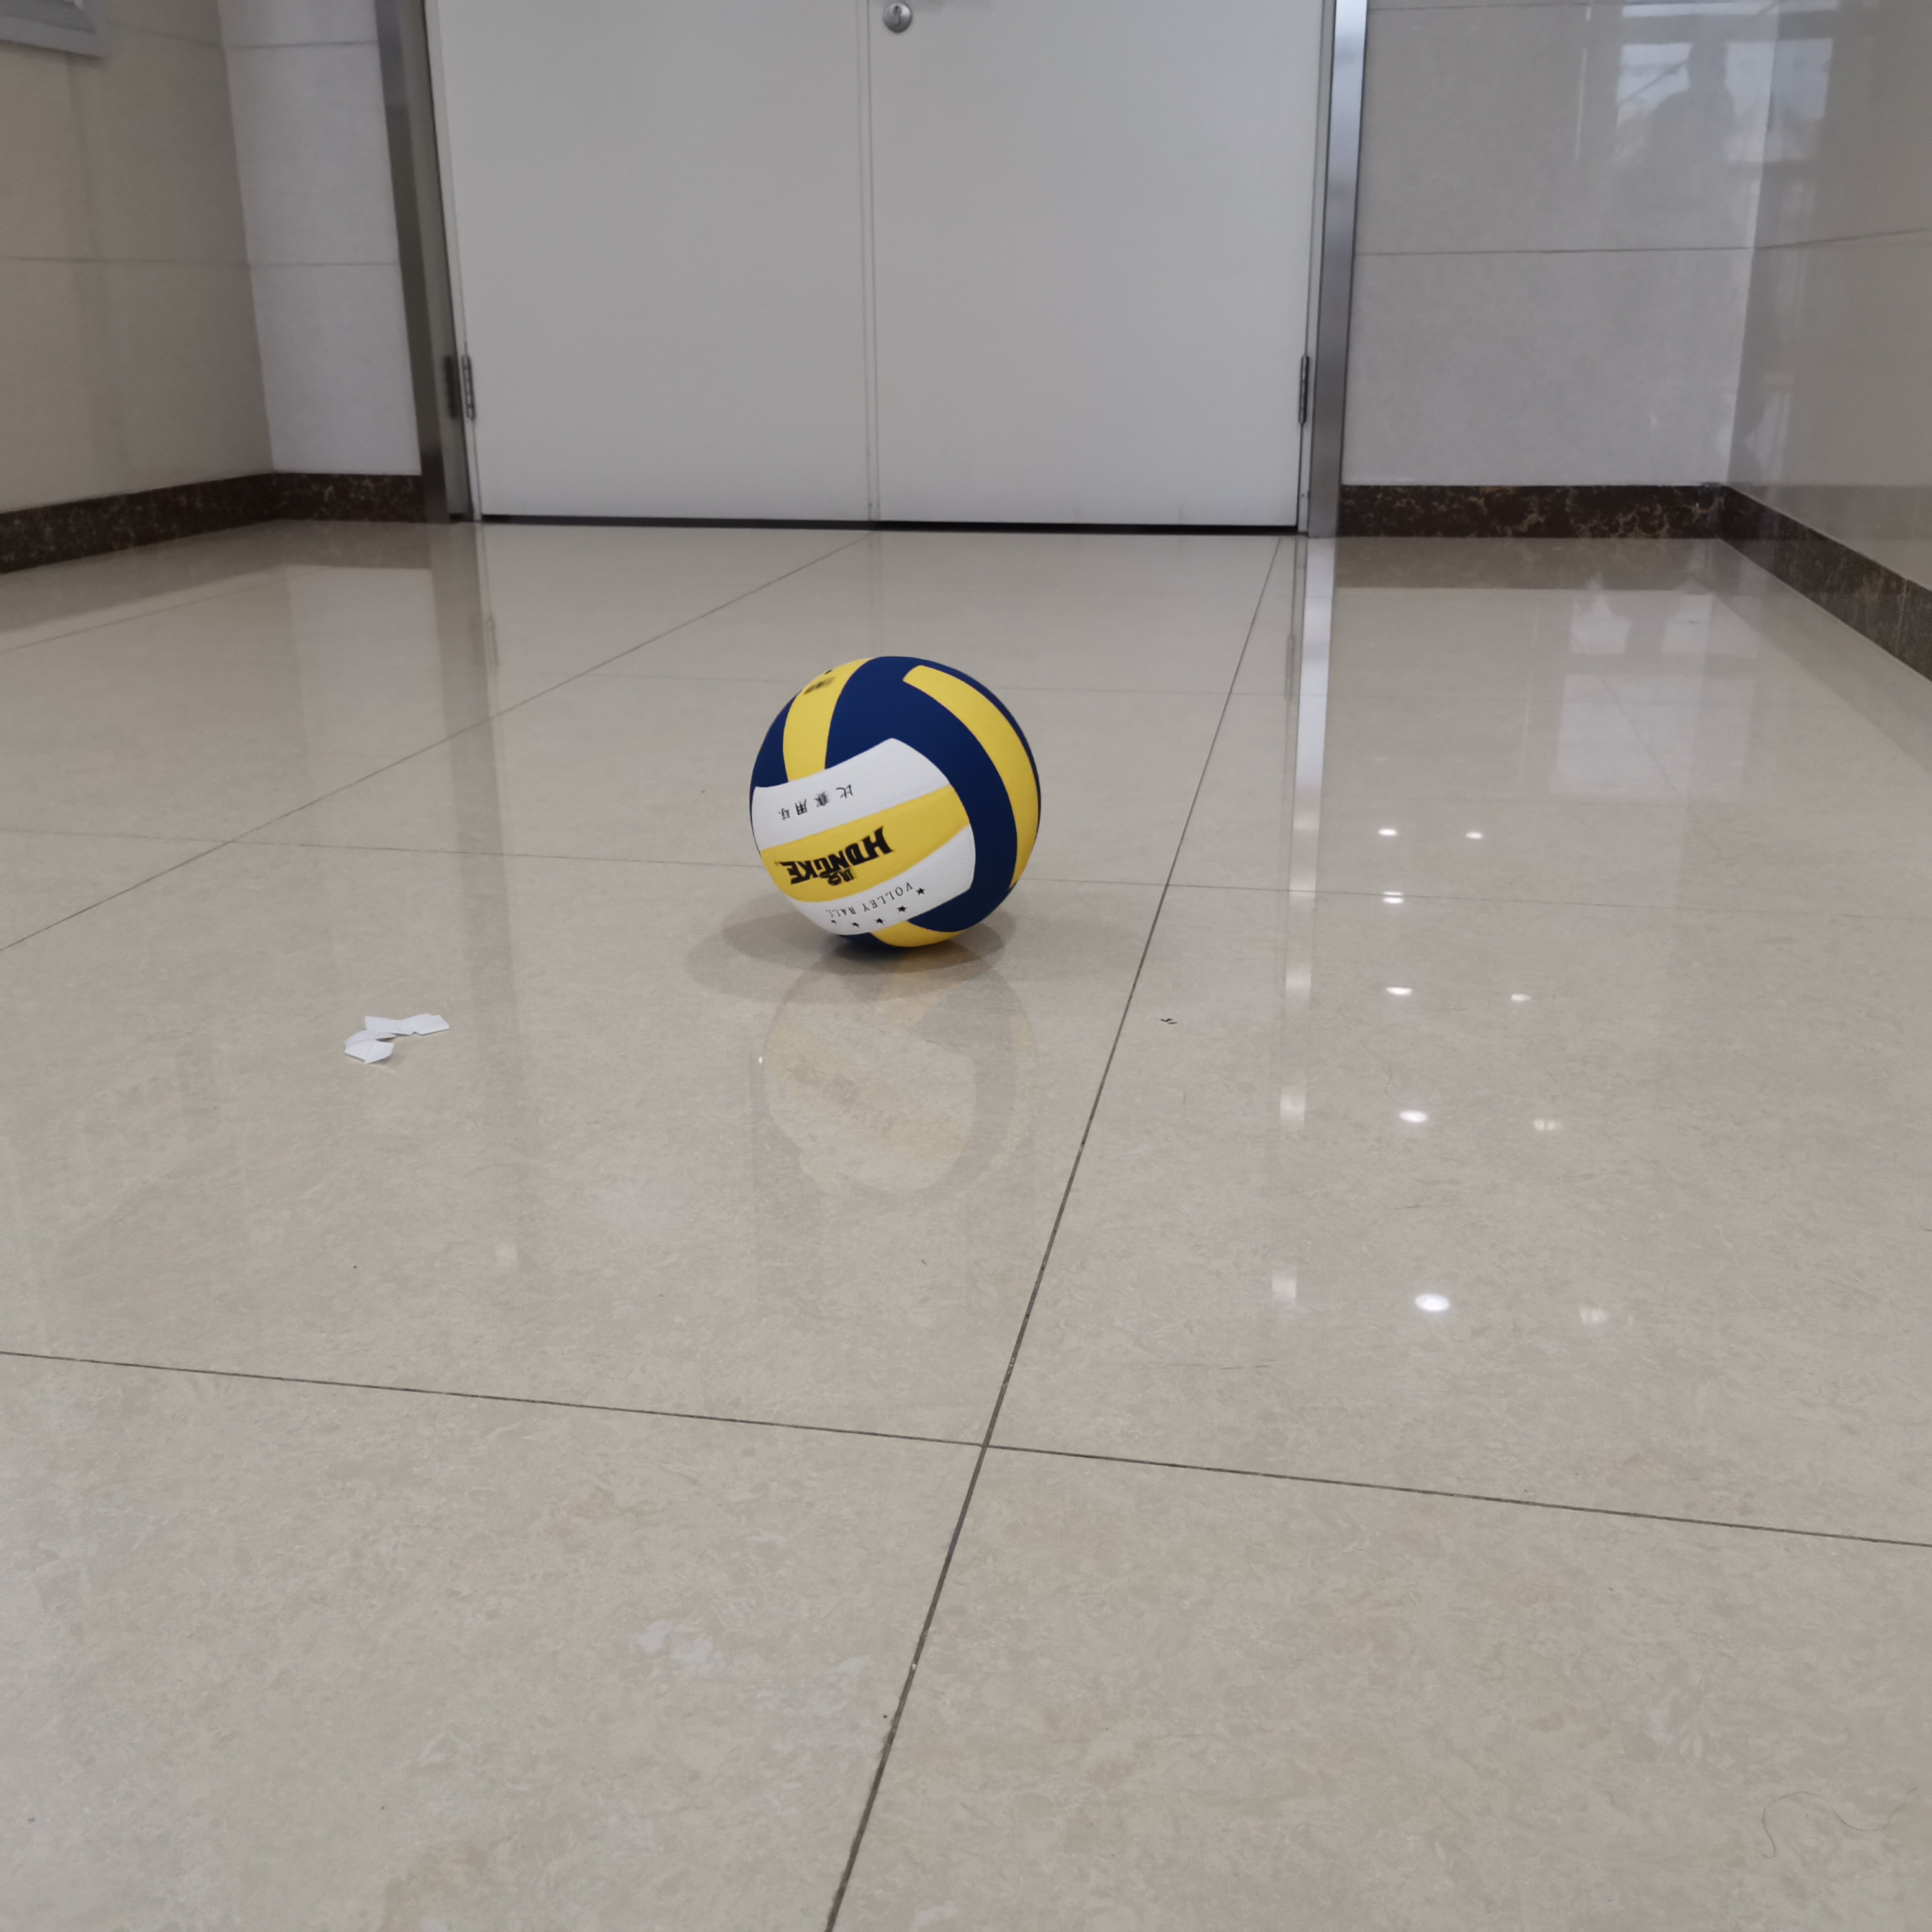volleyball: (750, 656, 1044, 957)
